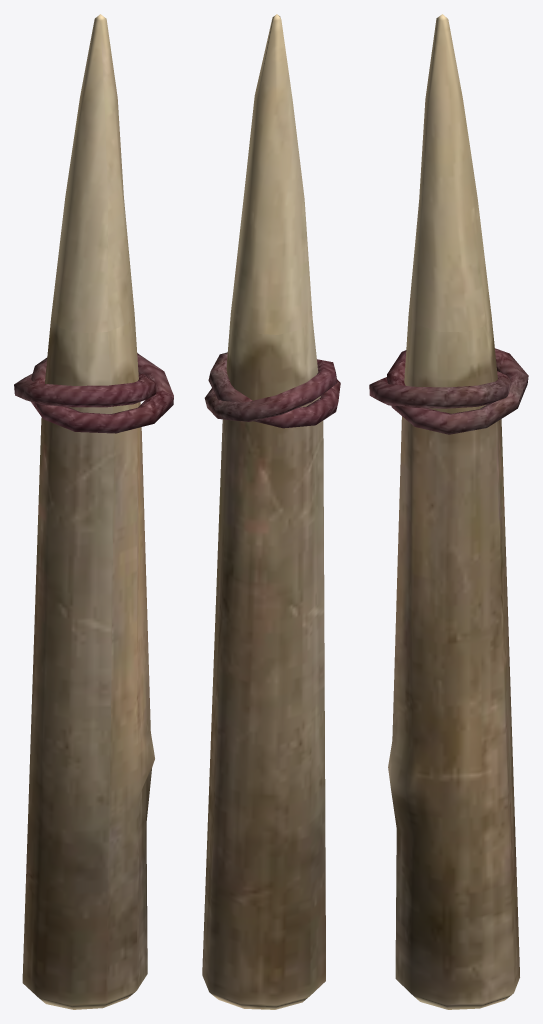
3 views of the same model, side by side, from view 1: azimuth 90°, elevation 25°; view 2: azimuth 150°, elevation 25°; view 3: azimuth 270°, elevation 25° (orthographic).
Visible parts, largest first — view 1: SM_Garou_Set_SM_SpikeRope_02_01_LOD0; view 2: SM_Garou_Set_SM_SpikeRope_02_01_LOD0; view 3: SM_Garou_Set_SM_SpikeRope_02_01_LOD0.
Part boxes in pixels (box(x1,y1,x2,y2)): SM_Garou_Set_SM_SpikeRope_02_01_LOD0: box(14, 14, 173, 1009); SM_Garou_Set_SM_SpikeRope_02_01_LOD0: box(202, 14, 340, 1009); SM_Garou_Set_SM_SpikeRope_02_01_LOD0: box(369, 14, 528, 1009).
Size of the model in its own units: 0.1905 by 1.54 by 0.2288.
Materials: 1 (1 with a texture image).
